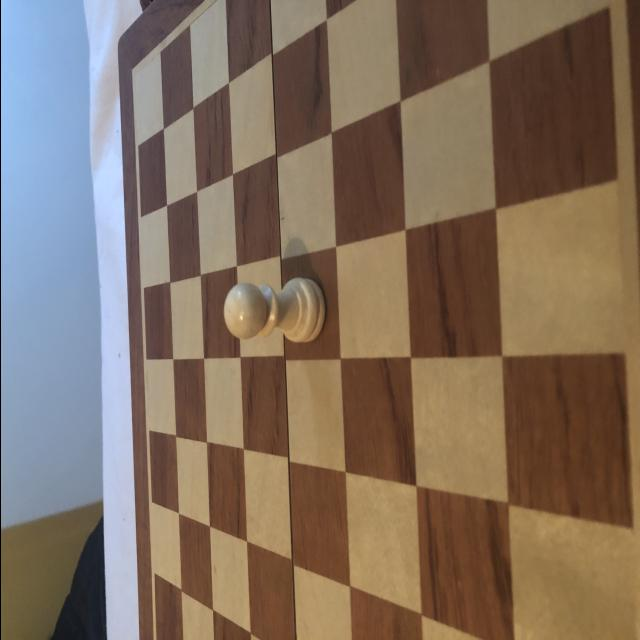white_pawn: (221, 274, 327, 345)
